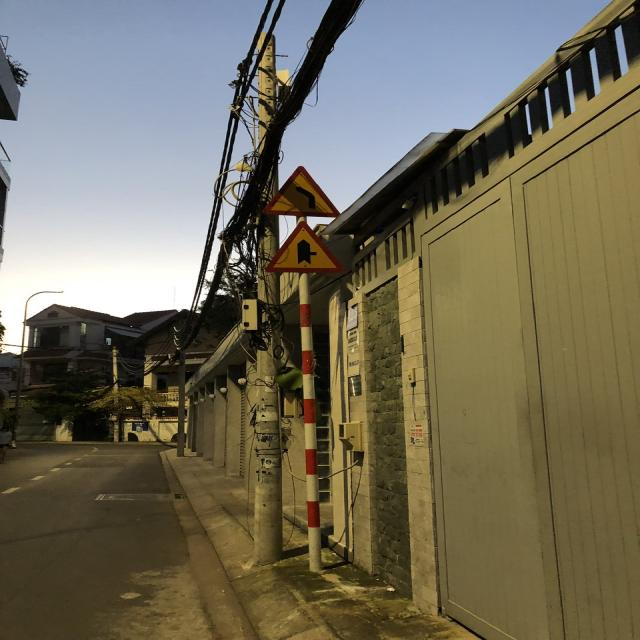Bien bao cho ngoat nguy hiem: (258, 162, 352, 222)
Bien bao giao nhau voi duong khong uu tien: (255, 221, 348, 277)
